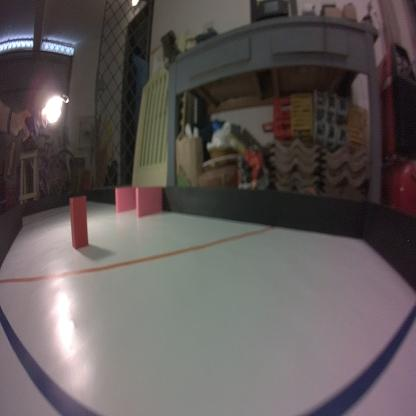magenta: (134, 186, 163, 218), (115, 186, 140, 210)
red: (69, 192, 87, 247)
